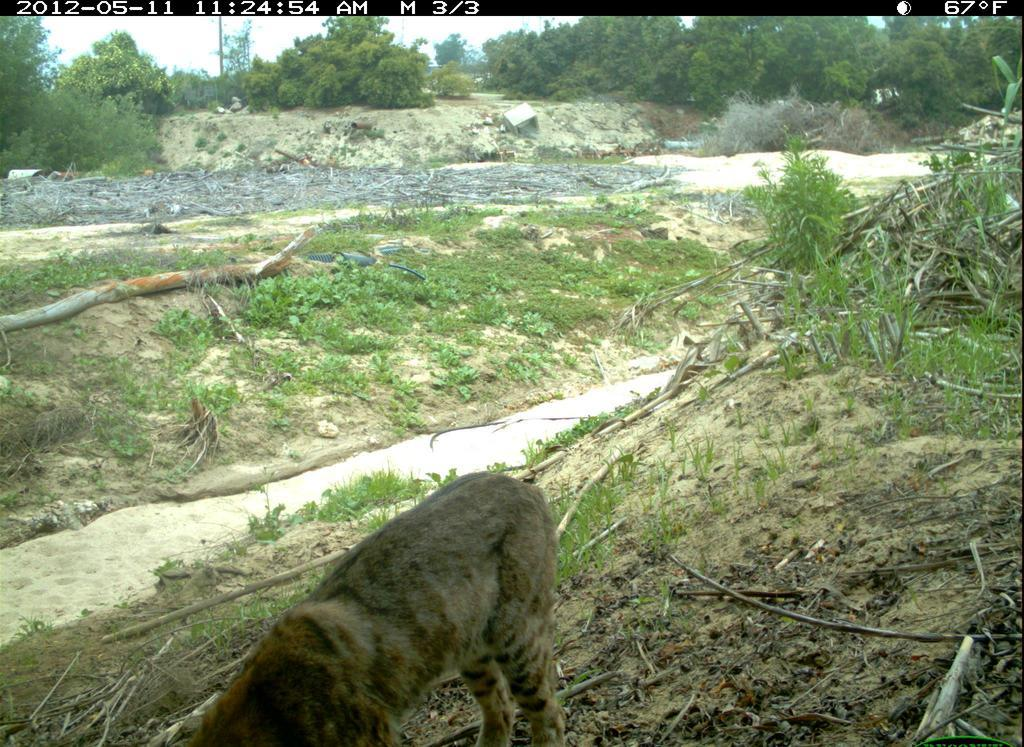bobcat: (148, 456, 580, 744)
